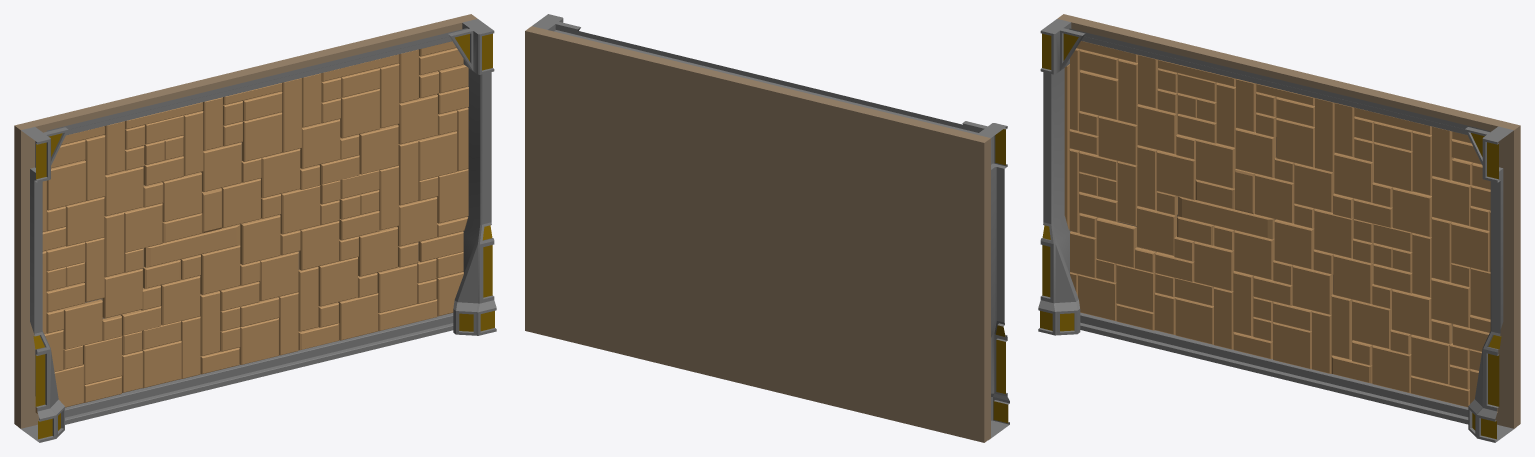
The model's file is wall_simple_LR.fbx.
The picture shows the model from 3 angles, left to right: view 1: azimuth 30°, elevation 25°; view 2: azimuth 150°, elevation 25°; view 3: azimuth 330°, elevation 25°; orthographic projection.
Parts seen in each view (by area): view 1: wall_simple_LR; view 2: wall_simple_LR; view 3: wall_simple_LR.
Boxes of the visible parts, x1,y1,x2,y2 form: wall_simple_LR: (14, 14, 496, 442); wall_simple_LR: (525, 14, 1009, 442); wall_simple_LR: (1038, 14, 1520, 442).
Size of the model in its own units: 157 by 15.13 by 98.43.
